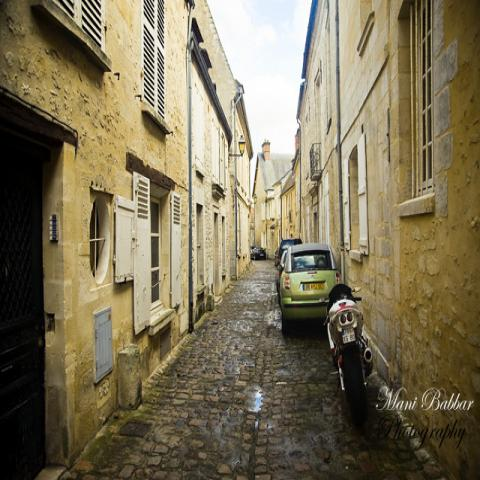car: (278, 241, 342, 335), (275, 237, 304, 266), (251, 247, 267, 261)
motorcycle: (323, 278, 376, 430)
